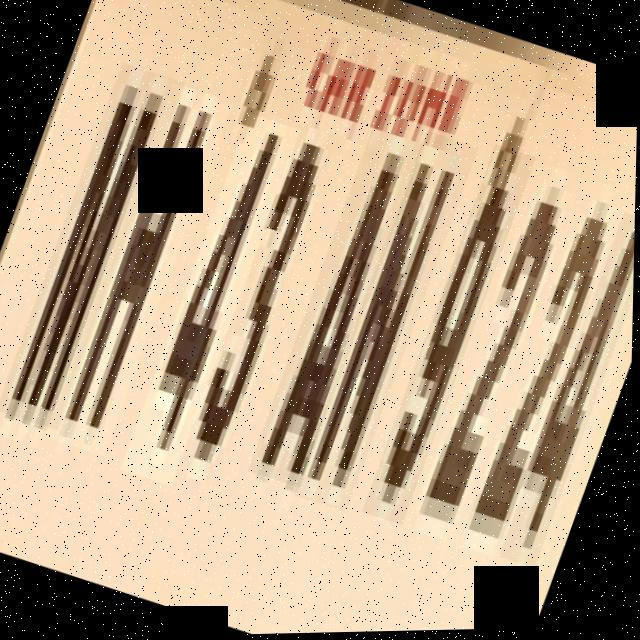3: (181, 138, 334, 480)
4: (121, 114, 301, 488), (500, 214, 636, 571)
9: (363, 146, 536, 528)
A: (250, 129, 426, 490)
H: (45, 84, 233, 458)
M: (0, 62, 184, 433)
N: (295, 131, 479, 514)
